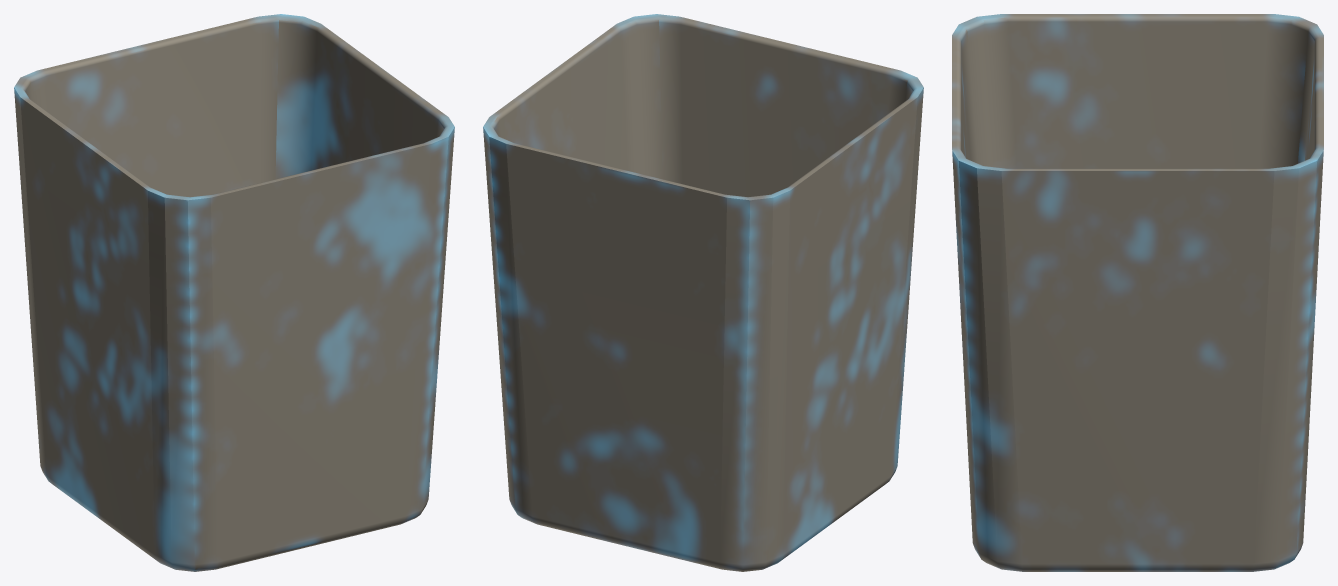
3 views of the same model, side by side, from view 1: azimuth 30°, elevation 25°; view 2: azimuth 150°, elevation 25°; view 3: azimuth 270°, elevation 25° (orthographic). The views are drawn at different scales.
Visible parts, largest first — view 1: pCube1; view 2: pCube1; view 3: pCube1.
Part boxes in pixels (left/top/right/bottom): pCube1: left=14, top=14, right=454, bottom=571; pCube1: left=483, top=14, right=923, bottom=571; pCube1: left=952, top=14, right=1323, bottom=571.
Bounding box in the file's own units: 0.131 × 0.1613 × 0.131.
Materials: 1 (1 with a texture image).
